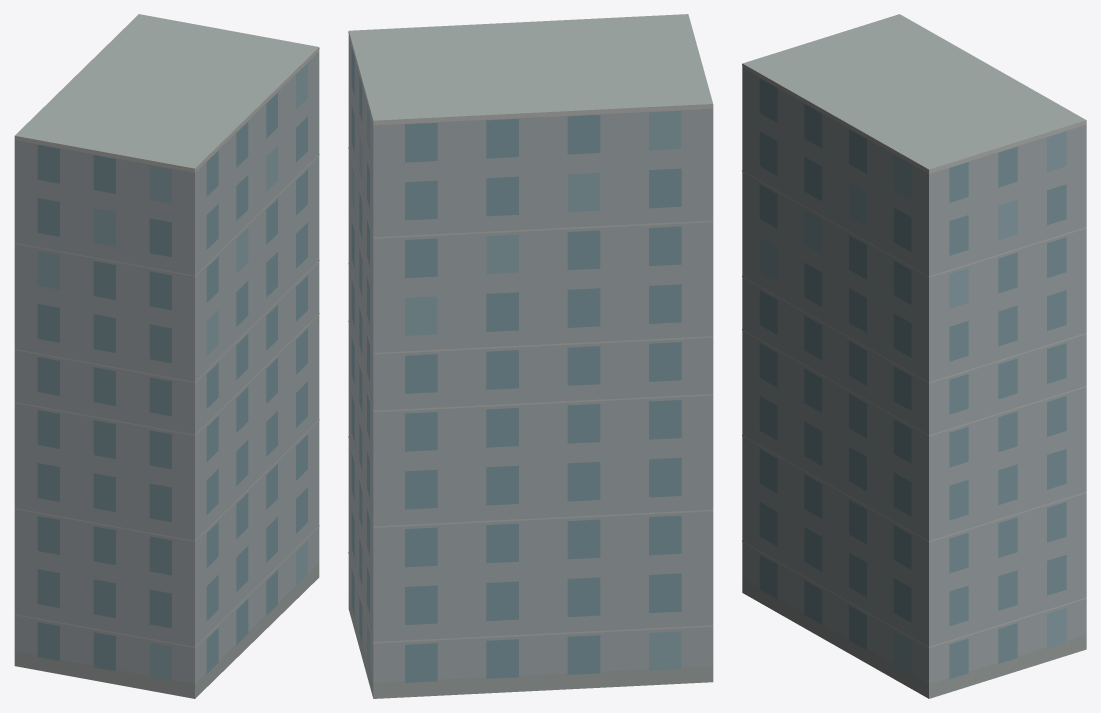
File: residential-baa54d80-97bc-4d7b-9d8e-419e92c6d264.glb
3 views of the same model, side by side, from view 1: azimuth 30°, elevation 25°; view 2: azimuth 150°, elevation 25°; view 3: azimuth 270°, elevation 25° (orthographic). The views are drawn at different scales.
Visible parts, largest first — view 1: residential-baa54d80-97bc-4d7b-9d8e-419e92c6d264.tmp; view 2: residential-baa54d80-97bc-4d7b-9d8e-419e92c6d264.tmp; view 3: residential-baa54d80-97bc-4d7b-9d8e-419e92c6d264.tmp.
Boxes of the visible parts, box(x1,y1,x2,y2) form: residential-baa54d80-97bc-4d7b-9d8e-419e92c6d264.tmp: box(14, 14, 319, 698); residential-baa54d80-97bc-4d7b-9d8e-419e92c6d264.tmp: box(348, 14, 713, 698); residential-baa54d80-97bc-4d7b-9d8e-419e92c6d264.tmp: box(742, 14, 1086, 698).
Size of the model in its own units: 19.25 by 30.5 by 18.
